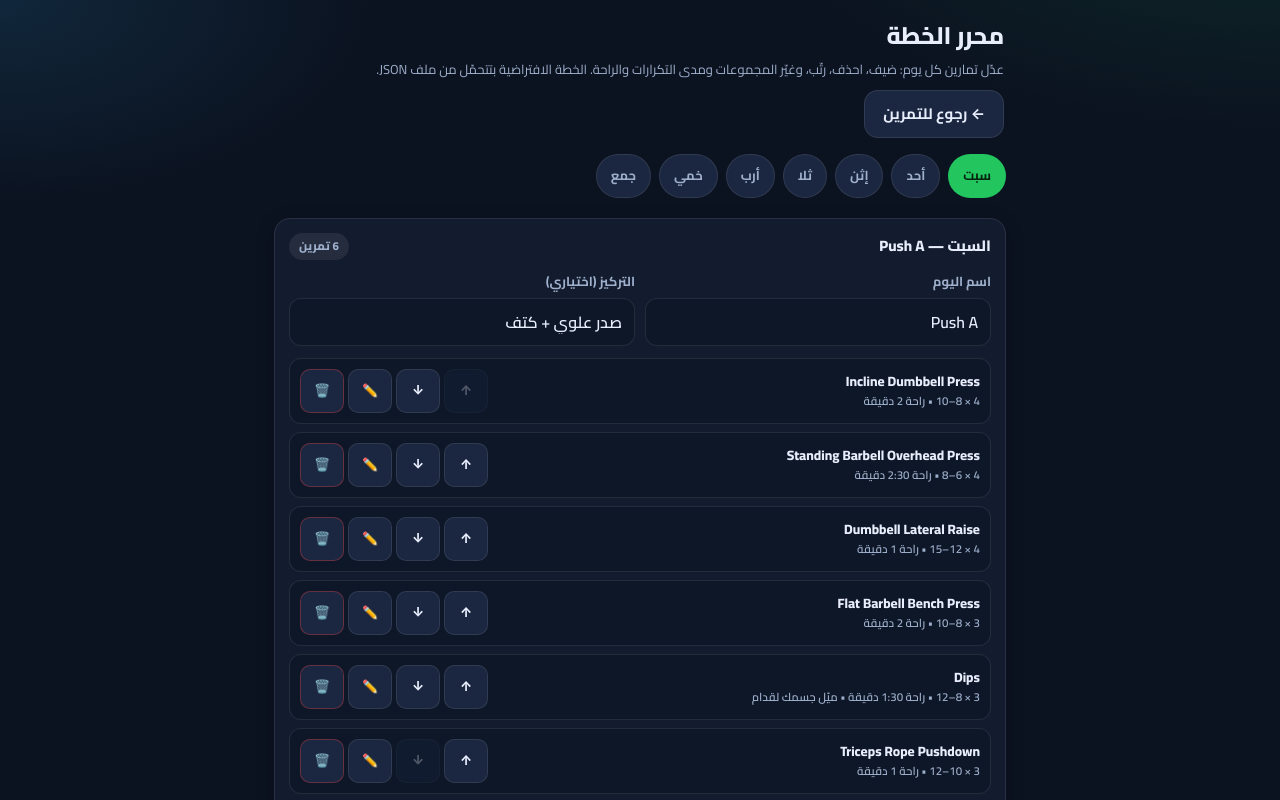
it: PlanEditorPage › deletes an exercise
Step 1. Click the button "🗑️" in the row of "Standing Barbell Overhead Press" → (322, 465), box [300,443,344,487]
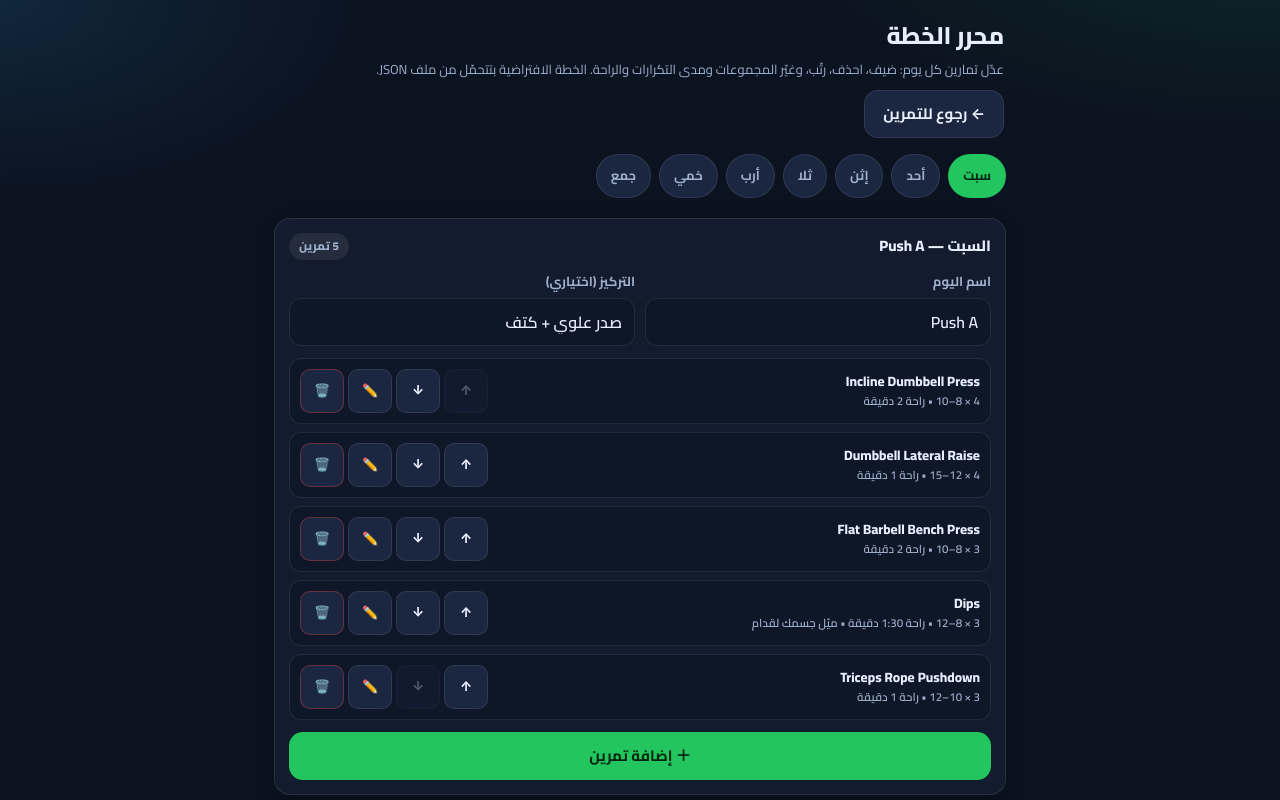
Now the text "Standing Barbell Overhead Press" is gone
